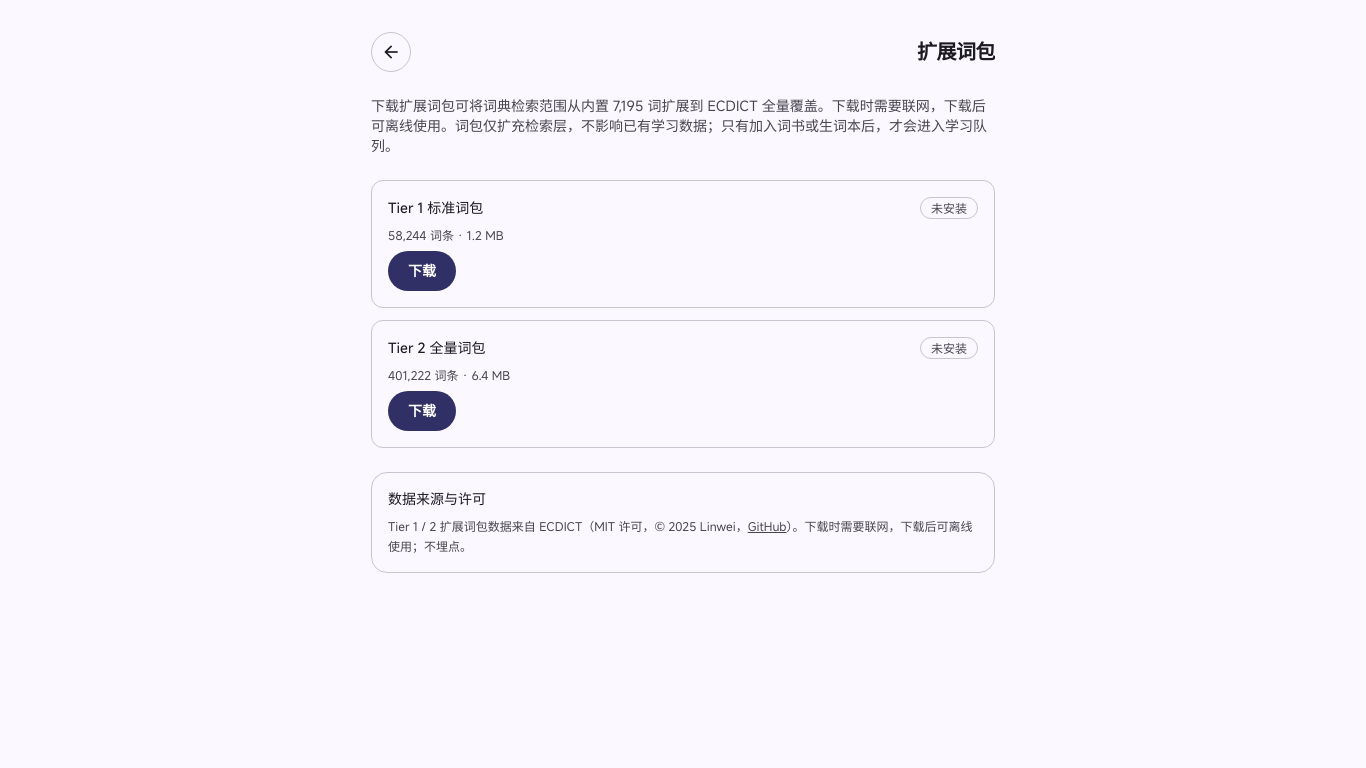
DictionaryPackagesScreen › 点击下载弹出确认对话框，展示许可声明
Note: 点击 Tier 1 的下载按钮
Click the button "下载" below "58,244" at [422, 271], box [388, 251, 456, 291]
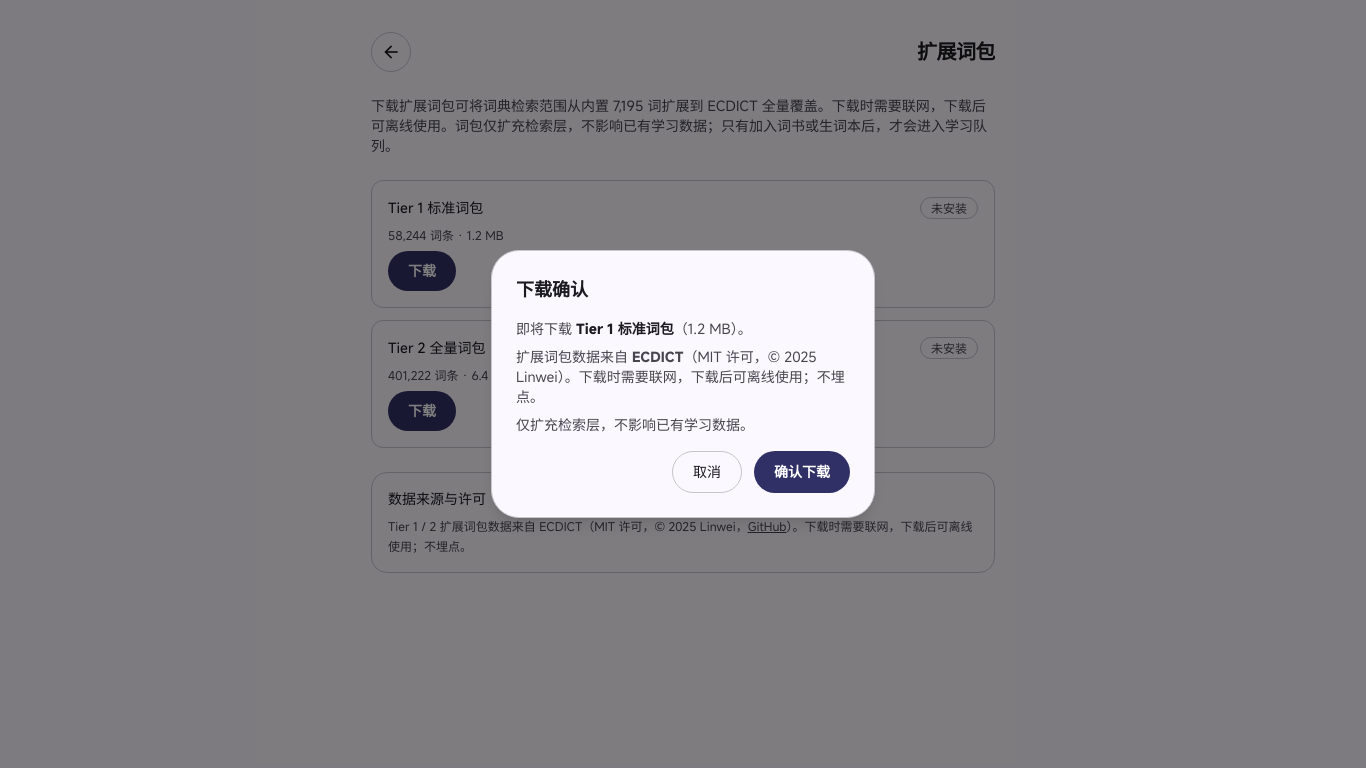
Now the button "确认下载" is shown, box [754, 451, 850, 493]
Now the dialog shows "ECDICT", box [628, 347, 684, 366]
Now the dialog shows "MIT 许可", box [516, 347, 845, 406]
